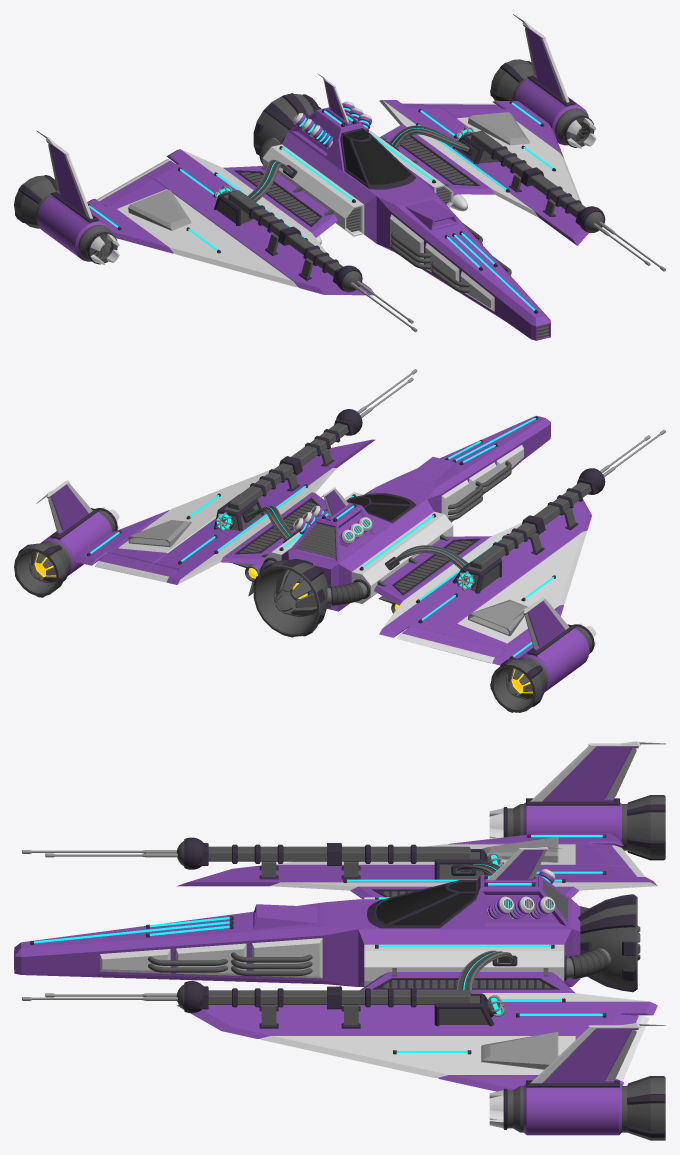
File: SM_PlayerShip.fbx
The picture shows the model from 3 angles, top to bottom: view 1: azimuth 30°, elevation 25°; view 2: azimuth 150°, elevation 25°; view 3: azimuth 270°, elevation 25°; orthographic projection. The views are drawn at different scales.
Parts seen in each view (by area): view 1: PlayerShip_MainShipBody, PlayerShip_MachineGun_Right, PlayerShip_MachineGun_Left; view 2: PlayerShip_MainShipBody; view 3: PlayerShip_MainShipBody, PlayerShip_MachineGun_Right, PlayerShip_MachineGun_Left.
Boxes of the visible parts, x1,y1,x2,y2 form: PlayerShip_MainShipBody: (14, 14, 605, 340); PlayerShip_MachineGun_Right: (342, 271, 417, 332); PlayerShip_MachineGun_Left: (585, 211, 665, 271); PlayerShip_MainShipBody: (14, 409, 605, 712); PlayerShip_MainShipBody: (14, 741, 665, 1140); PlayerShip_MachineGun_Right: (22, 841, 184, 866); PlayerShip_MachineGun_Left: (22, 984, 184, 1009).
Bounding box in the file's own units: 26.52 × 6.07 × 23.69.
